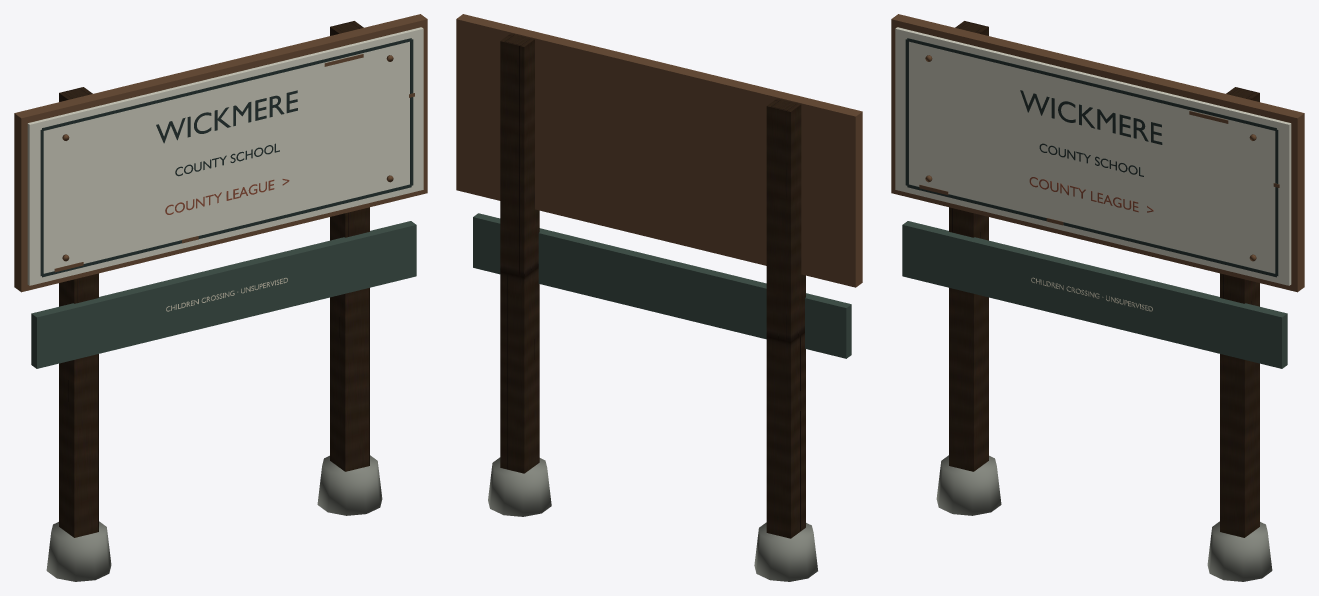
File: waymarker-wickmere.glb
3 views of the same model, side by side, from view 1: azimuth 30°, elevation 25°; view 2: azimuth 150°, elevation 25°; view 3: azimuth 330°, elevation 25° (orthographic).
Parts seen in each view (by area): view 1: Reflective enamel face, Lower regulation plaque, Steel folded sign back, Weathered timber upright, Weathered timber upright.001, Concrete footing.001, Concrete footing, Printed border.001, Destination, Printed border, Printed border.002, Direction (+1 smaller); view 2: Steel folded sign back, Lower regulation plaque, Weathered timber upright, Weathered timber upright.001, Concrete footing.001, Concrete footing; view 3: Reflective enamel face, Lower regulation plaque, Steel folded sign back, Weathered timber upright.001, Weathered timber upright, Concrete footing, Concrete footing.001, Printed border.001, Destination, Printed border, Printed border.002, Printed border.003 (+1 smaller).
Part boxes in pixels (left/top/right/bottom): Reflective enamel face: left=27, top=27, right=423, bottom=285; Lower regulation plaque: left=31, top=221, right=416, bottom=368; Steel folded sign back: left=14, top=14, right=427, bottom=292; Weathered timber upright: left=59, top=87, right=98, bottom=537; Weathered timber upright.001: left=330, top=21, right=369, bottom=471; Concrete footing.001: left=317, top=455, right=382, bottom=515; Concrete footing: left=46, top=521, right=111, bottom=581; Printed border.001: left=42, top=38, right=411, bottom=131; Destination: left=156, top=90, right=297, bottom=143; Printed border: left=42, top=184, right=411, bottom=277; Printed border.002: left=40, top=129, right=43, bottom=275; Direction: left=165, top=179, right=289, bottom=214; Steel folded sign back: left=456, top=14, right=862, bottom=287; Lower regulation plaque: left=473, top=213, right=851, bottom=358; Weathered timber upright: left=766, top=98, right=805, bottom=538; Weathered timber upright.001: left=500, top=33, right=539, bottom=473; Concrete footing.001: left=488, top=457, right=551, bottom=516; Concrete footing: left=754, top=522, right=817, bottom=581; Reflective enamel face: left=895, top=27, right=1291, bottom=285; Lower regulation plaque: left=902, top=221, right=1287, bottom=368; Steel folded sign back: left=891, top=14, right=1304, bottom=292; Weathered timber upright.001: left=1220, top=87, right=1259, bottom=537; Weathered timber upright: left=949, top=21, right=988, bottom=471; Concrete footing: left=936, top=455, right=1001, bottom=515; Concrete footing.001: left=1207, top=521, right=1272, bottom=581; Printed border.001: left=907, top=38, right=1276, bottom=131; Destination: left=1020, top=90, right=1162, bottom=144; Printed border: left=907, top=184, right=1276, bottom=277; Printed border.002: left=905, top=39, right=908, bottom=185; Printed border.003: left=1275, top=129, right=1278, bottom=275.
Size of the model in its own units: 1.98 by 2.2 by 0.28.
8 materials, 1 textured.
